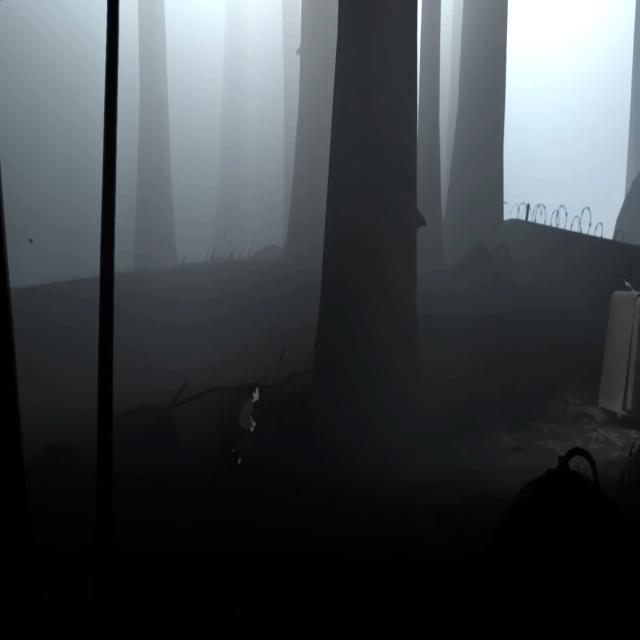boy: (230, 382, 260, 468)
